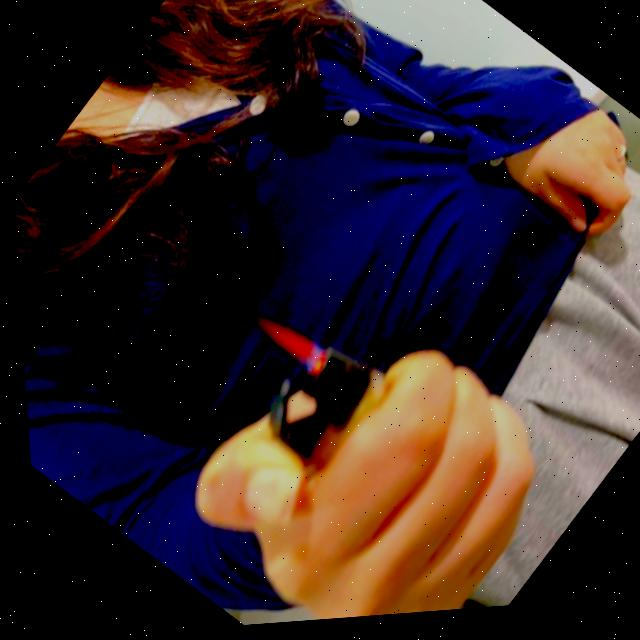Fire: (242, 300, 332, 386)
